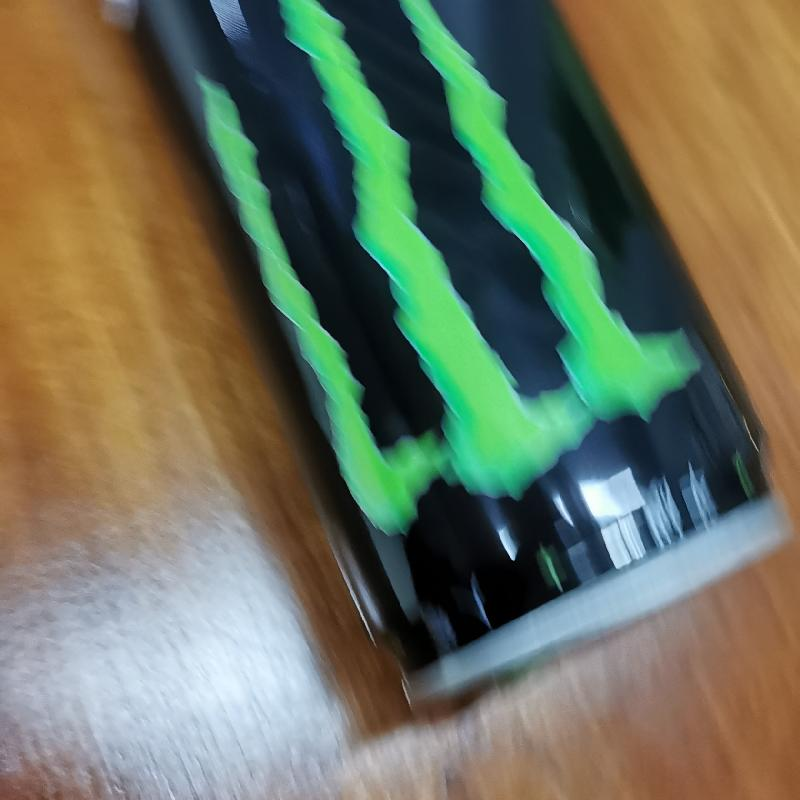cans: (109, 0, 799, 710)
